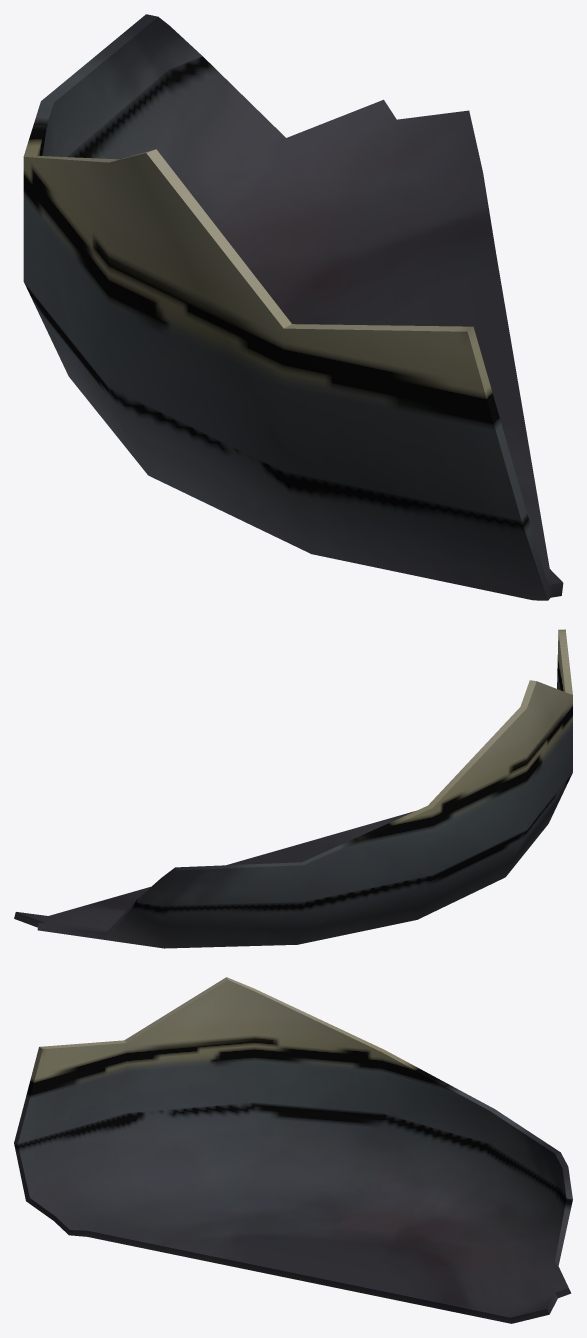
File: jug_gib_4.fbx
3 renders of one model, top to bottom at view 1: azimuth 30°, elevation 25°; view 2: azimuth 150°, elevation 25°; view 3: azimuth 270°, elevation 25°, orthographic. The views are drawn at different scales.
Visible parts, largest first — view 1: jug_gib_4; view 2: jug_gib_4; view 3: jug_gib_4.
Part boxes in pixels (left/top/right/bottom): jug_gib_4: left=23, top=14, right=563, bottom=600; jug_gib_4: left=14, top=629, right=572, bottom=948; jug_gib_4: left=14, top=977, right=572, bottom=1323.
Bounding box in the file's own units: 111 × 63.41 × 164.
